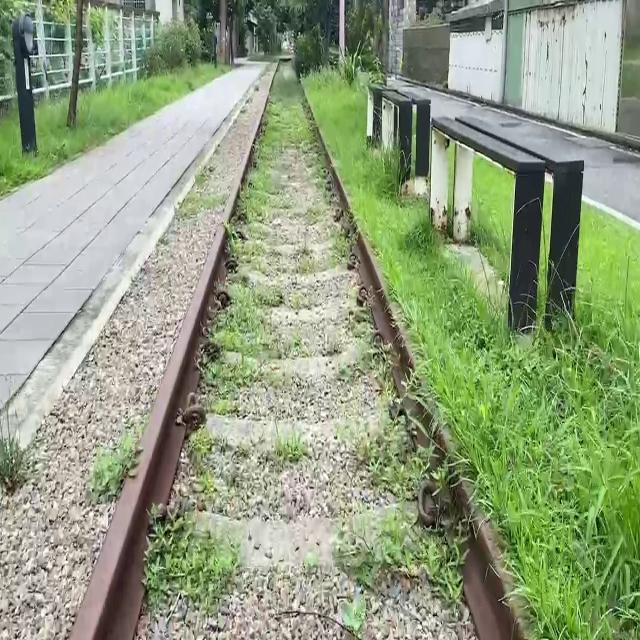rail-track: (136, 62, 475, 639)
